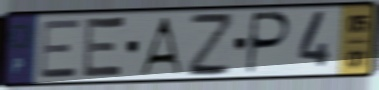4: (296, 8, 336, 75)
A: (136, 15, 184, 76)
E: (80, 14, 129, 81), (38, 18, 82, 81)
P: (244, 10, 293, 77)
Z: (186, 11, 233, 80)
